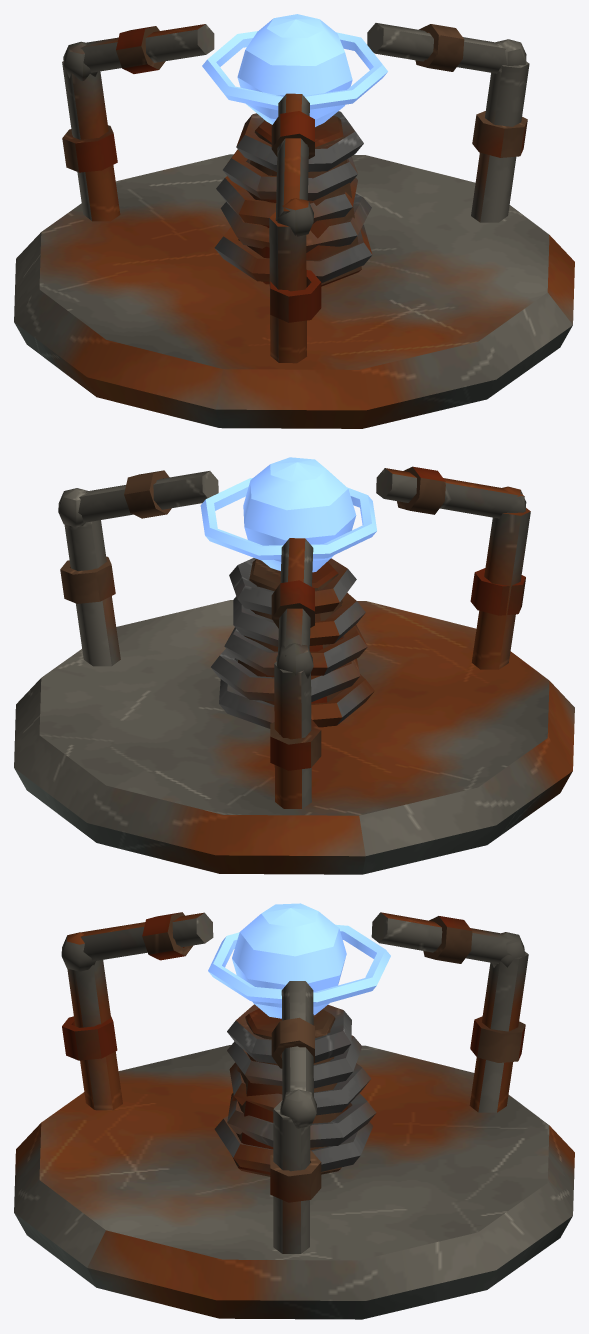
Rendered from R4D_EMPTrap.glb.
3 renders of one model, top to bottom at view 1: azimuth 30°, elevation 25°; view 2: azimuth 150°, elevation 25°; view 3: azimuth 270°, elevation 25°, orthographic.
Parts seen in each view (by area): view 1: R4D_EMPTrap_Body, R4D_EMPTrap_Core; view 2: R4D_EMPTrap_Body, R4D_EMPTrap_Core; view 3: R4D_EMPTrap_Body, R4D_EMPTrap_Core.
Boxes of the visible parts, left/top/right/bottom form: R4D_EMPTrap_Body: left=14, top=23, right=574, bottom=428; R4D_EMPTrap_Core: left=202, top=14, right=387, bottom=126; R4D_EMPTrap_Body: left=14, top=466, right=574, bottom=874; R4D_EMPTrap_Core: left=200, top=457, right=376, bottom=572; R4D_EMPTrap_Body: left=14, top=912, right=574, bottom=1319; R4D_EMPTrap_Core: left=208, top=903, right=390, bottom=1018.
Bounding box in the file's own units: 0.4265 × 0.25 × 0.4265.
Materials: 5 (4 with a texture image).
